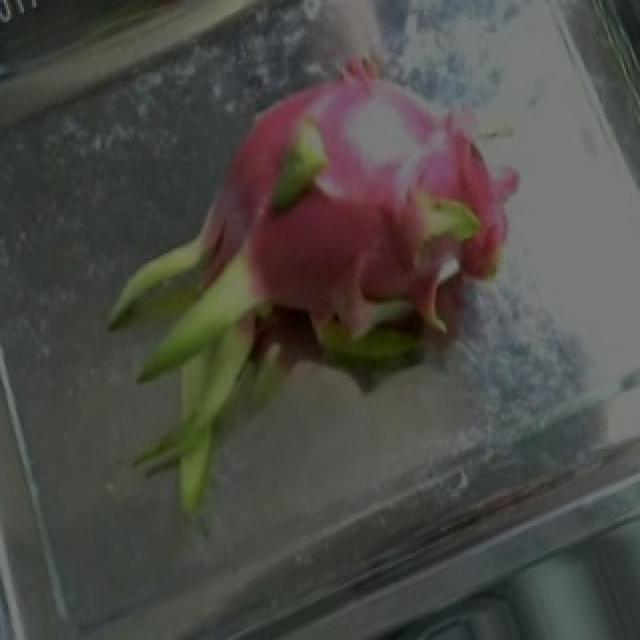fruit: (138, 10, 566, 461)
